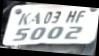character: (12, 27, 30, 42), (63, 25, 82, 39), (29, 27, 46, 40), (46, 26, 63, 39), (17, 12, 31, 25)
